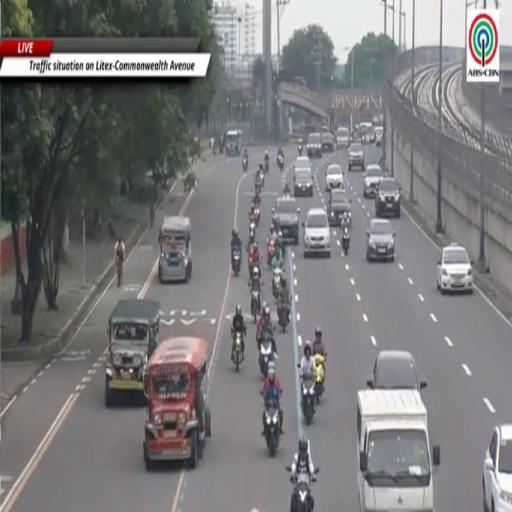car: (367, 350, 426, 392), (483, 424, 511, 511), (437, 243, 473, 293), (303, 208, 330, 258), (366, 219, 395, 261), (275, 198, 300, 245), (375, 177, 401, 218), (327, 189, 351, 227), (363, 165, 383, 198), (294, 169, 313, 197), (348, 142, 365, 171), (326, 165, 344, 189), (294, 156, 312, 175), (307, 133, 321, 157), (359, 122, 374, 143), (336, 127, 349, 149), (294, 156, 311, 170), (322, 133, 334, 152), (375, 126, 383, 147)
jeepney: (144, 338, 211, 470), (105, 299, 160, 407), (158, 216, 191, 283), (226, 130, 242, 155)
motorcycle: (291, 468, 318, 511), (265, 403, 280, 457), (259, 331, 275, 377), (301, 377, 315, 425), (314, 354, 326, 403), (233, 332, 243, 371), (277, 301, 288, 332), (231, 246, 241, 276), (251, 290, 260, 323), (273, 268, 282, 299), (248, 252, 259, 276), (342, 227, 350, 255), (267, 240, 275, 267), (116, 259, 122, 287), (259, 169, 267, 186), (249, 222, 255, 243), (249, 211, 256, 229), (277, 154, 284, 171), (255, 206, 260, 227), (255, 181, 262, 195), (243, 157, 248, 172), (264, 160, 269, 173), (298, 144, 302, 155)
truck: (357, 390, 440, 511)
